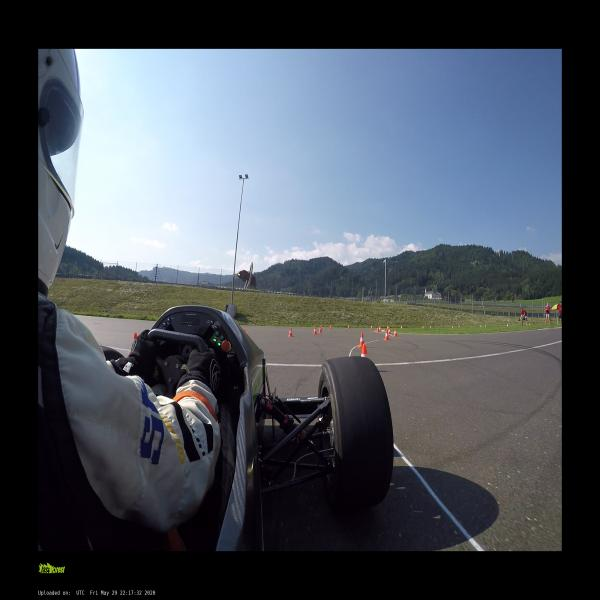orange_cone: (130, 332, 138, 353), (358, 332, 366, 347), (360, 344, 368, 358), (384, 331, 389, 340), (393, 328, 397, 337), (288, 328, 292, 336), (313, 327, 316, 334), (388, 327, 391, 334), (319, 324, 322, 330), (386, 325, 389, 330), (400, 325, 403, 330), (319, 326, 321, 333), (377, 326, 379, 332), (329, 325, 332, 329), (379, 326, 381, 331), (244, 329, 246, 332), (348, 325, 349, 328), (371, 325, 372, 328)
